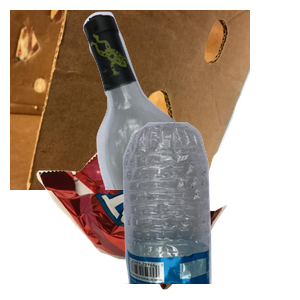cardboard: (10, 10, 250, 190)
glass: (81, 10, 300, 190)
plastic: (111, 120, 300, 300)
trash: (34, 136, 253, 300)
